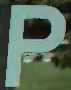Parking: (3, 0, 64, 87)
